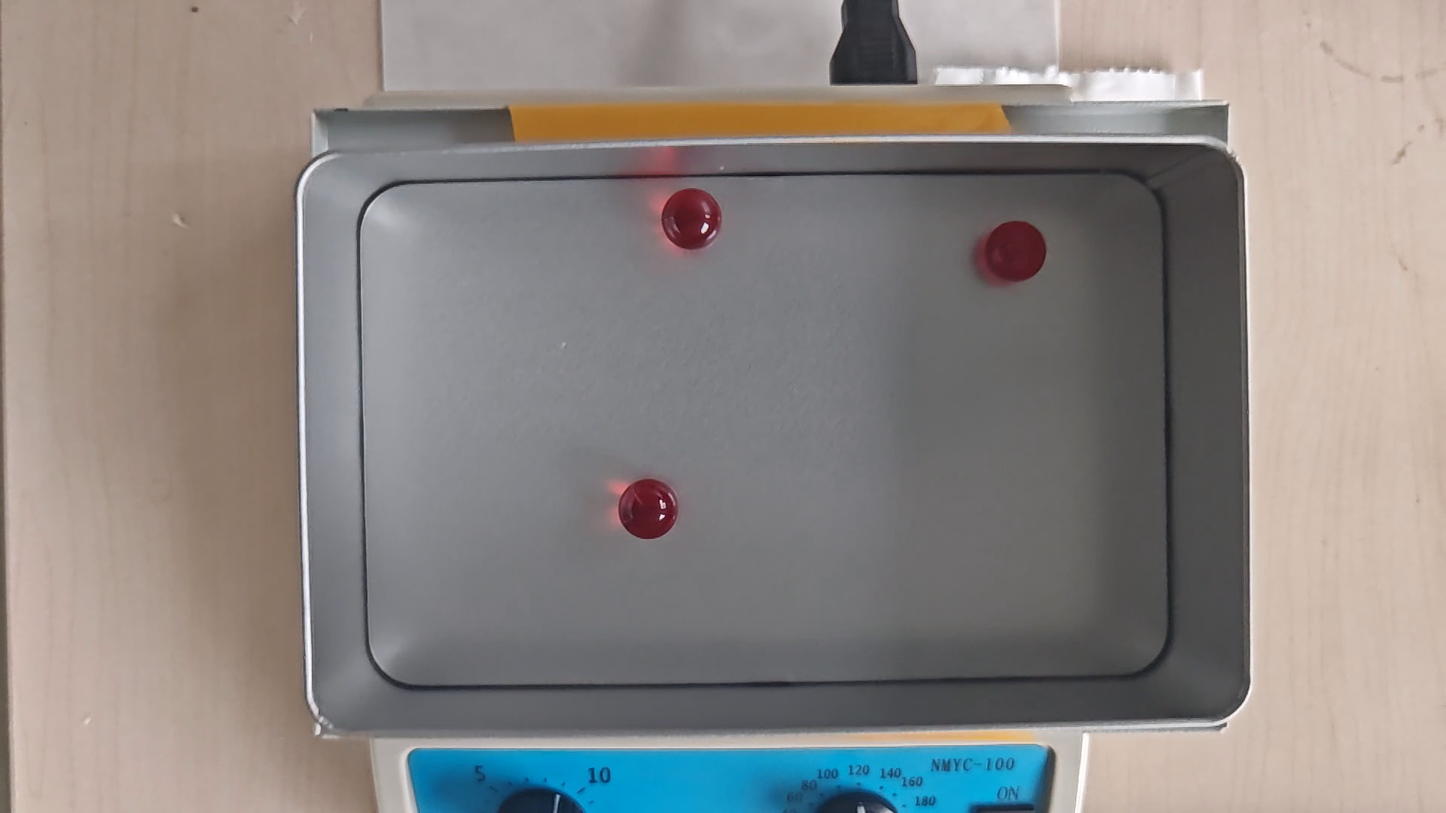ball: (987, 221, 1048, 281), (663, 189, 722, 250), (618, 481, 678, 539)
container: (361, 173, 1168, 684)
